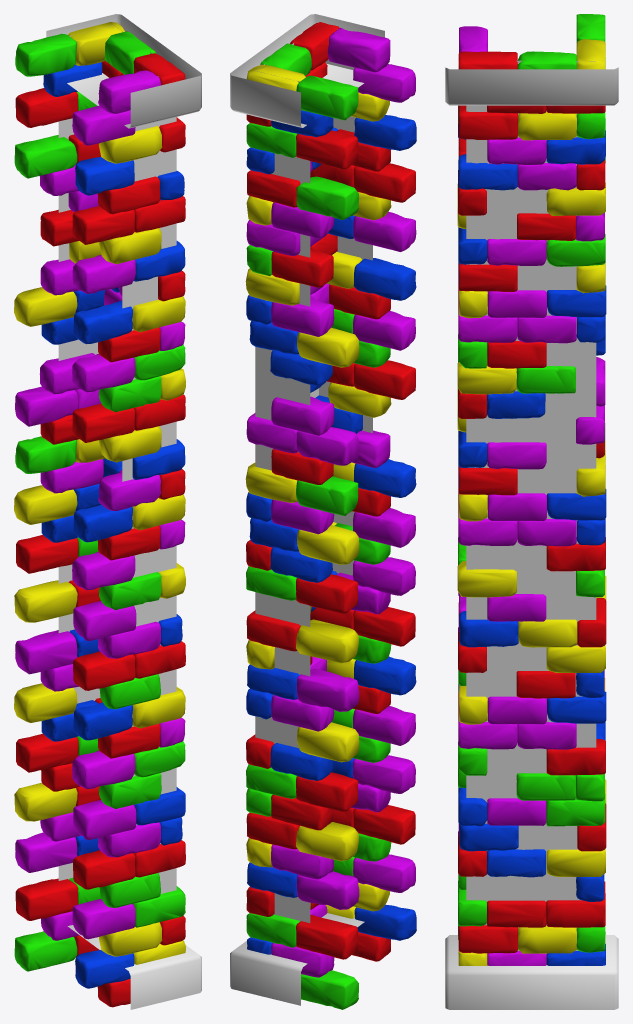
Rendered from column half_damaged.fbx.
3 views of the same model, side by side, from view 1: azimuth 30°, elevation 25°; view 2: azimuth 150°, elevation 25°; view 3: azimuth 270°, elevation 25° (orthographic). The views are drawn at different scales.
Parts seen in each view (by area): view 1: column, edge top, edge bottom; view 2: column, edge top, edge bottom; view 3: column, edge bottom, edge top.
Boxes of the visible parts, x1,y1,x2,y2 form: column: [14, 22, 185, 1007]; edge top: [46, 14, 201, 128]; edge bottom: [67, 925, 201, 1009]; column: [245, 22, 416, 1009]; edge top: [230, 14, 384, 127]; edge bottom: [230, 913, 364, 1005]; column: [457, 14, 606, 965]; edge bottom: [445, 935, 618, 1009]; edge top: [445, 67, 618, 105].
Size of the model in its own units: 89.64 by 701 by 117.
